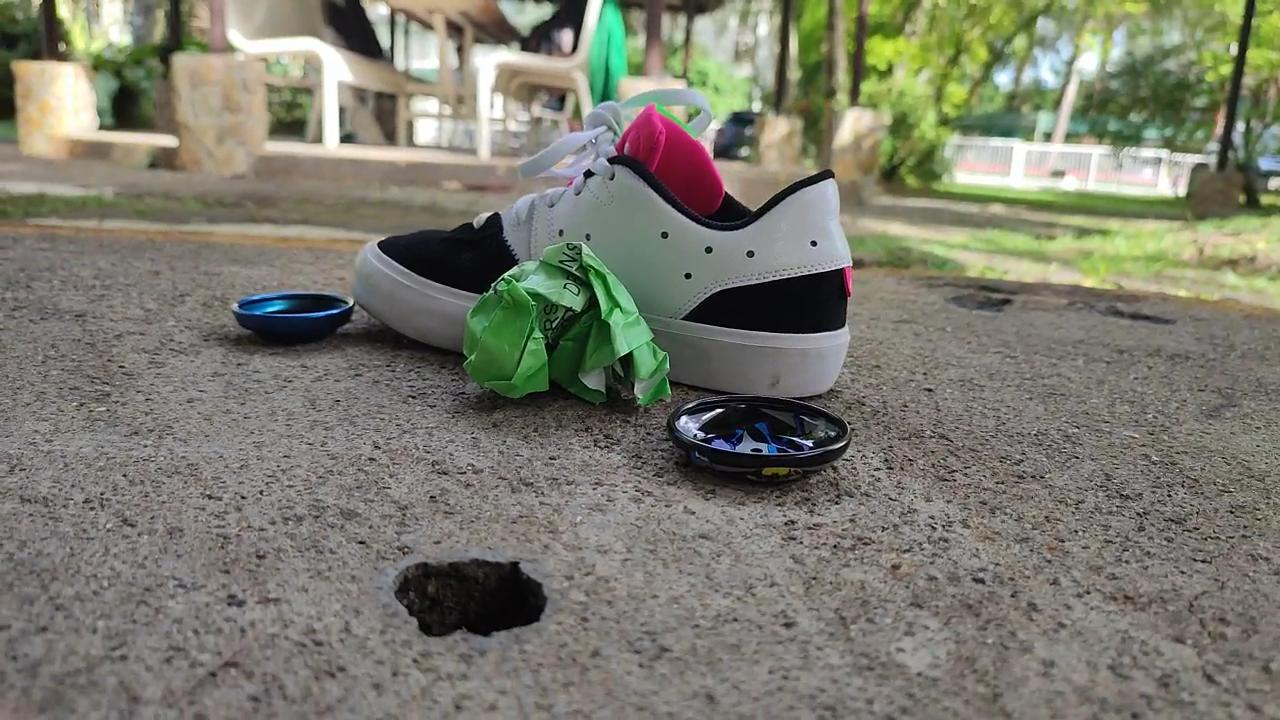Paper: (432, 227, 693, 434)
